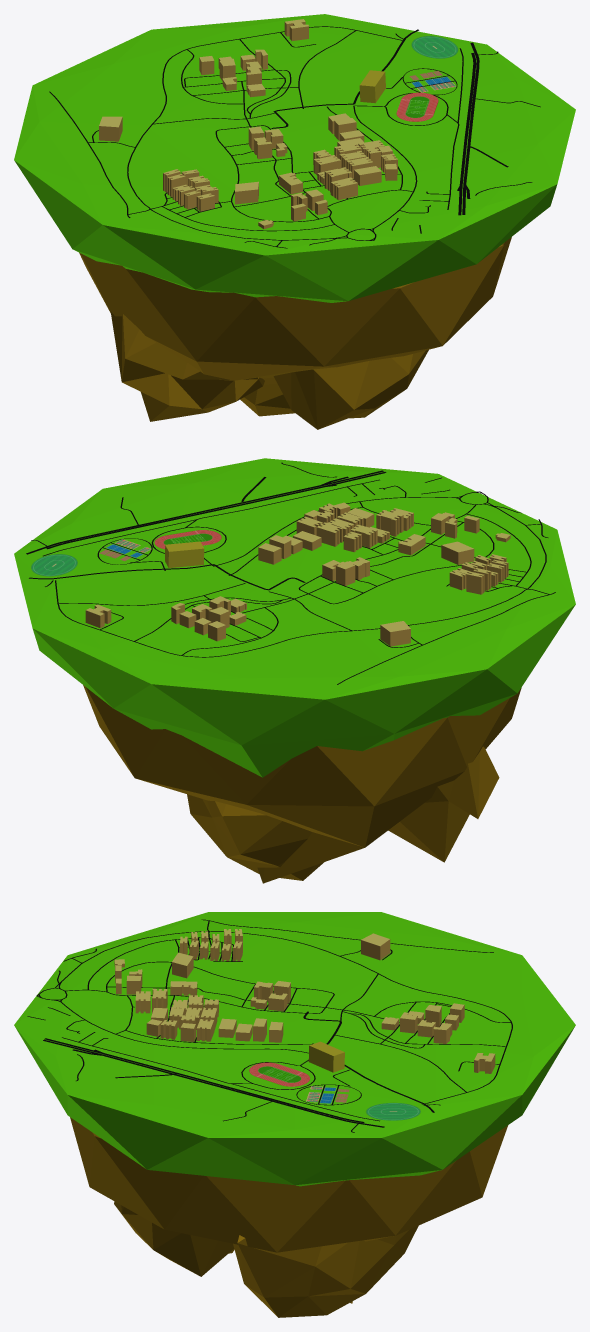
Rendered from clg model12.glb.
The picture shows the model from 3 angles, top to bottom: view 1: azimuth 30°, elevation 25°; view 2: azimuth 150°, elevation 25°; view 3: azimuth 270°, elevation 25°; orthographic projection. The views are drawn at different scales.
Parts seen in each view (by area): view 1: Icosphere.003, Icosphere.004, map.osm_buildings, Icosphere.006, Icosphere.005, map.osm_roads_service, map.osm_roads_trunk, Icosphere.008, 4-removebg-preview, cricket-removebg-preview, Cube.003; view 2: Icosphere.003, Icosphere.004, map.osm_buildings, Icosphere.008, Icosphere.006, map.osm_roads_service, map.osm_roads_trunk, Cube.003, cricket-removebg-preview, 4-removebg-preview; view 3: Icosphere.003, Icosphere.004, map.osm_buildings, Icosphere.008, map.osm_roads_service, Icosphere.005, map.osm_roads_trunk, 4-removebg-preview, Cube.003, cricket-removebg-preview.
Part boxes in pixels (x1=…): Icosphere.003: x1=14, y1=14, x2=575, y2=302; Icosphere.004: x1=79, y1=237, x2=511, y2=384; map.osm_buildings: x1=99, y1=19, x2=397, y2=228; Icosphere.006: x1=110, y1=311, x2=264, y2=421; Icosphere.005: x1=273, y1=349, x2=428, y2=429; map.osm_roads_service: x1=49, y1=26, x2=540, y2=248; map.osm_roads_trunk: x1=457, y1=42, x2=479, y2=215; Icosphere.008: x1=240, y1=383, x2=294, y2=416; 4-removebg-preview: x1=396, y1=92, x2=438, y2=121; cricket-removebg-preview: x1=411, y1=36, x2=457, y2=58; Cube.003: x1=359, y1=70, x2=385, y2=103; Icosphere.003: x1=14, y1=458, x2=575, y2=777; Icosphere.004: x1=83, y1=685, x2=521, y2=883; map.osm_buildings: x1=85, y1=502, x2=510, y2=646; Icosphere.008: x1=187, y1=794, x2=323, y2=880; Icosphere.006: x1=388, y1=746, x2=499, y2=862; map.osm_roads_service: x1=31, y1=462, x2=555, y2=684; map.osm_roads_trunk: x1=26, y1=470, x2=386, y2=554; Cube.003: x1=165, y1=541, x2=204, y2=567; cricket-removebg-preview: x1=31, y1=554, x2=77, y2=576; 4-removebg-preview: x1=154, y1=530, x2=221, y2=549; Icosphere.003: x1=14, y1=912, x2=575, y2=1186; Icosphere.004: x1=70, y1=1117, x2=508, y2=1303; map.osm_buildings: x1=114, y1=929, x2=495, y2=1073; Icosphere.008: x1=233, y1=1225, x2=418, y2=1317; map.osm_roads_service: x1=27, y1=919, x2=512, y2=1132; Icosphere.005: x1=114, y1=1201, x2=234, y2=1276; map.osm_roads_trunk: x1=43, y1=1038, x2=384, y2=1127; 4-removebg-preview: x1=249, y1=1062, x2=309, y2=1086; Cube.003: x1=308, y1=1041, x2=344, y2=1072; cricket-removebg-preview: x1=366, y1=1103, x2=420, y2=1120.
Bounding box in the file's own units: 3116 × 1955 × 3276.
Materials: 17 (5 with a texture image).
